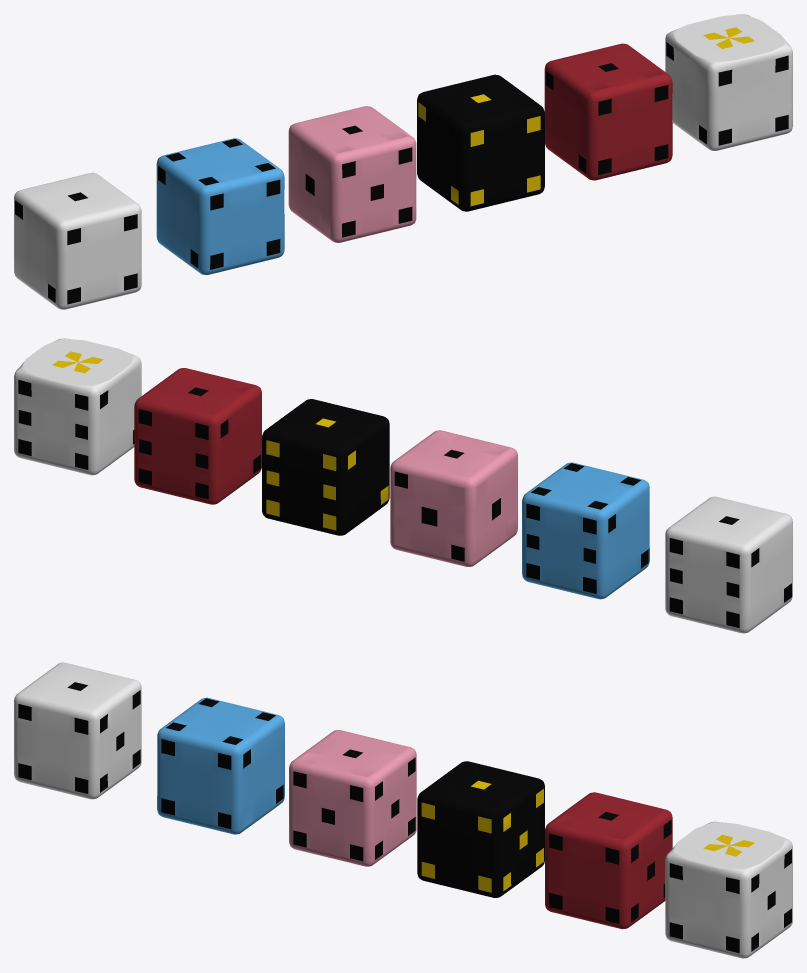
The model's file is Dice_ver3.fbx.
The picture shows the model from 3 angles, top to bottom: view 1: azimuth 30°, elevation 25°; view 2: azimuth 150°, elevation 25°; view 3: azimuth 330°, elevation 25°; orthographic projection.
Parts seen in each view (by area): view 1: Even, Odd, Blood, Fraud, normal, Blood.001; view 2: Even, normal, Fraud, Odd, Blood, Blood.001; view 3: Blood.001, Odd, normal, Fraud, Even, Blood.
Part boxes in pixels (x1=…): Even: x1=156, y1=138, x2=284, y2=275; Odd: x1=288, y1=106, x2=416, y2=242; Blood: x1=544, y1=43, x2=672, y2=180; Fraud: x1=417, y1=74, x2=544, y2=211; normal: x1=14, y1=172, x2=141, y2=309; Blood.001: x1=665, y1=14, x2=792, y2=150; Even: x1=522, y1=462, x2=649, y2=599; normal: x1=665, y1=496, x2=792, y2=633; Fraud: x1=262, y1=399, x2=389, y2=535; Odd: x1=390, y1=430, x2=517, y2=566; Blood: x1=134, y1=368, x2=261, y2=504; Blood.001: x1=14, y1=338, x2=141, y2=475; Blood.001: x1=665, y1=821, x2=792, y2=958; Odd: x1=289, y1=730, x2=416, y2=866; normal: x1=14, y1=662, x2=141, y2=799; Fraud: x1=417, y1=761, x2=544, y2=897; Even: x1=157, y1=697, x2=284, y2=834; Blood: x1=545, y1=792, x2=672, y2=929.
Size of the model in its own units: 1734 by 201 by 206.
